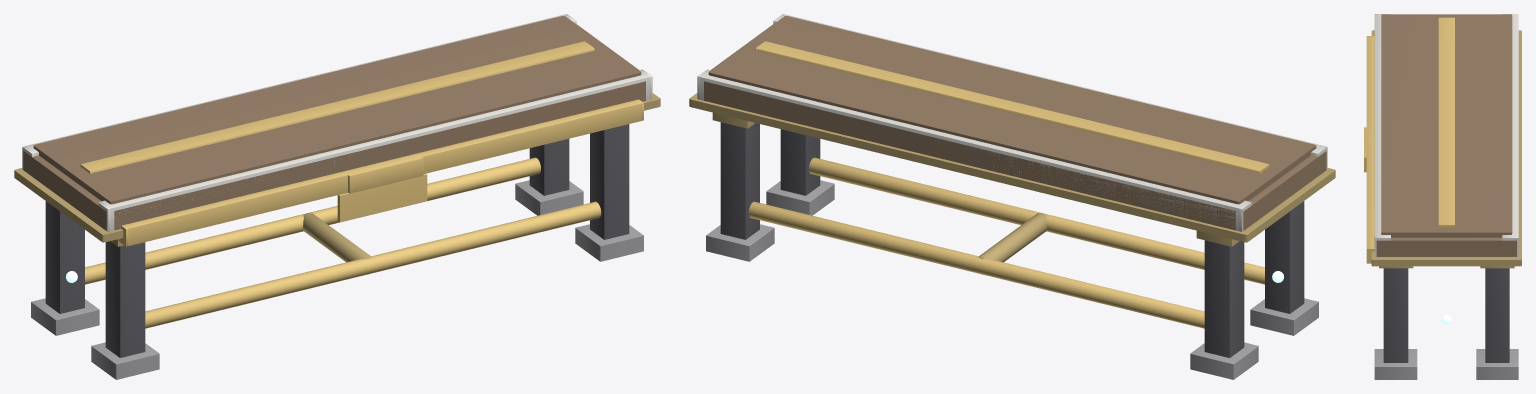
The model's file is hp_room_museum_gallery_bench.glb.
3 renders of one model, left to right at view 1: azimuth 30°, elevation 25°; view 2: azimuth 150°, elevation 25°; view 3: azimuth 270°, elevation 25°, orthographic. The views are drawn at different scales.
Parts seen in each view (by area): view 1: room_museum_gallery_bench; view 2: room_museum_gallery_bench; view 3: room_museum_gallery_bench.
Part boxes in pixels (left/top/right/bottom): room_museum_gallery_bench: left=14, top=14, right=660, bottom=379; room_museum_gallery_bench: left=689, top=14, right=1335, bottom=379; room_museum_gallery_bench: left=1364, top=14, right=1521, bottom=379.
Bounding box in the file's own units: 1.66 × 0.5065 × 0.483.
